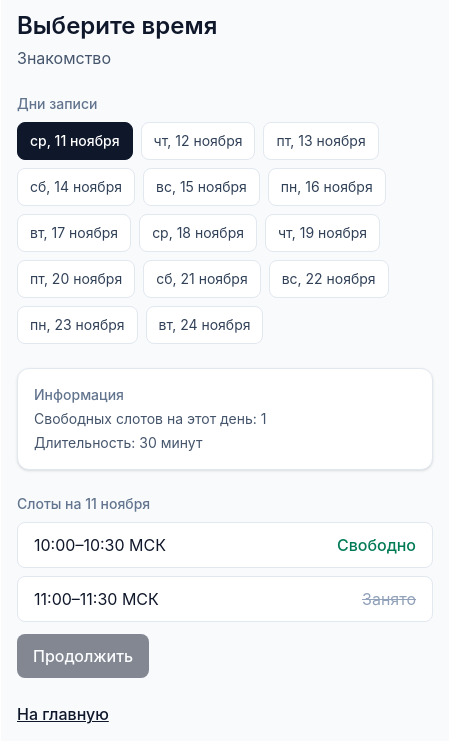
Test: Страница записи › пустой день не ломает экран
Note: Третий день в фикстуре без слотов.
Click the button "13 ноября" at coordinates (321, 141), box [264, 122, 379, 160]
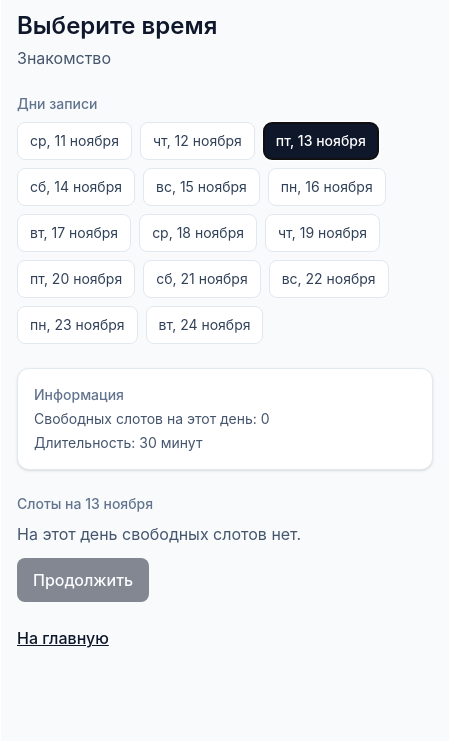
Expected: the button "Продолжить" is disabled, [17, 558, 149, 602]
Now the text "На этот день свободных слотов нет." is shown, box [17, 524, 301, 544]
